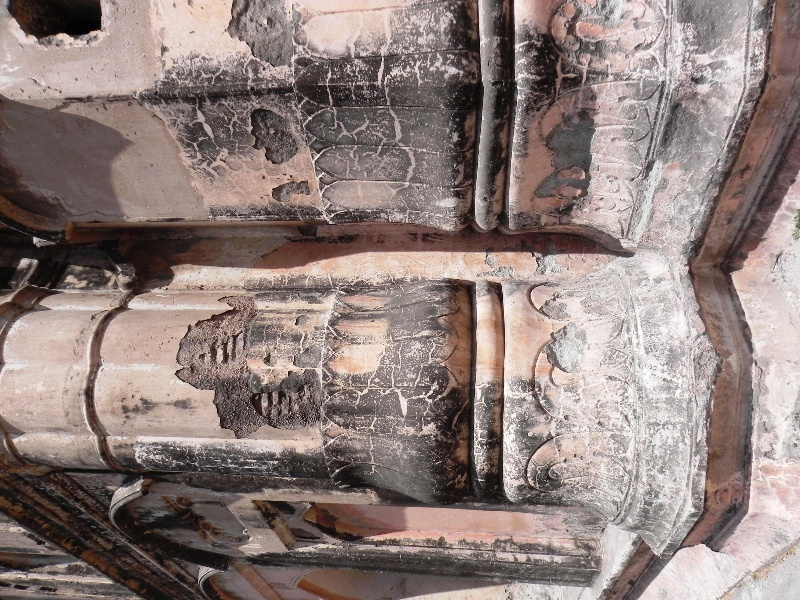Spalling: (172, 291, 327, 434), (219, 1, 286, 75), (246, 97, 295, 164), (258, 176, 324, 213)
